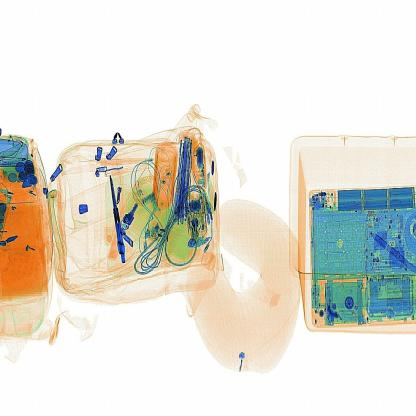gun: (100, 166, 133, 264)
